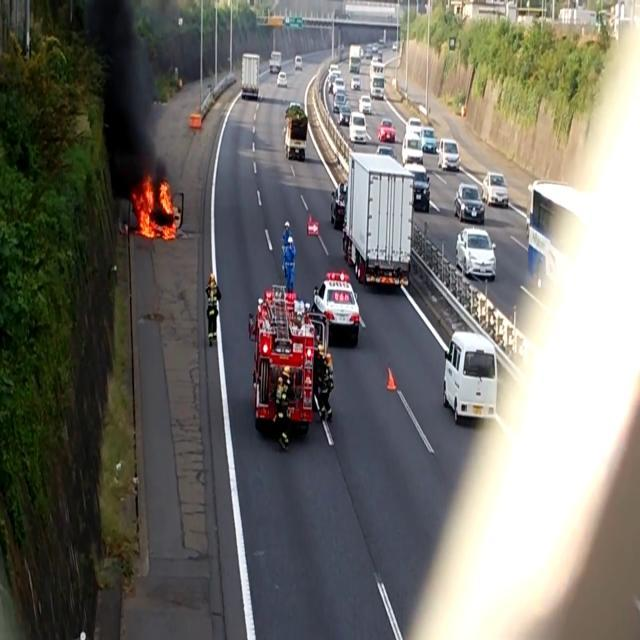Fire: (131, 166, 180, 242)
Smoke: (72, 0, 168, 174)
